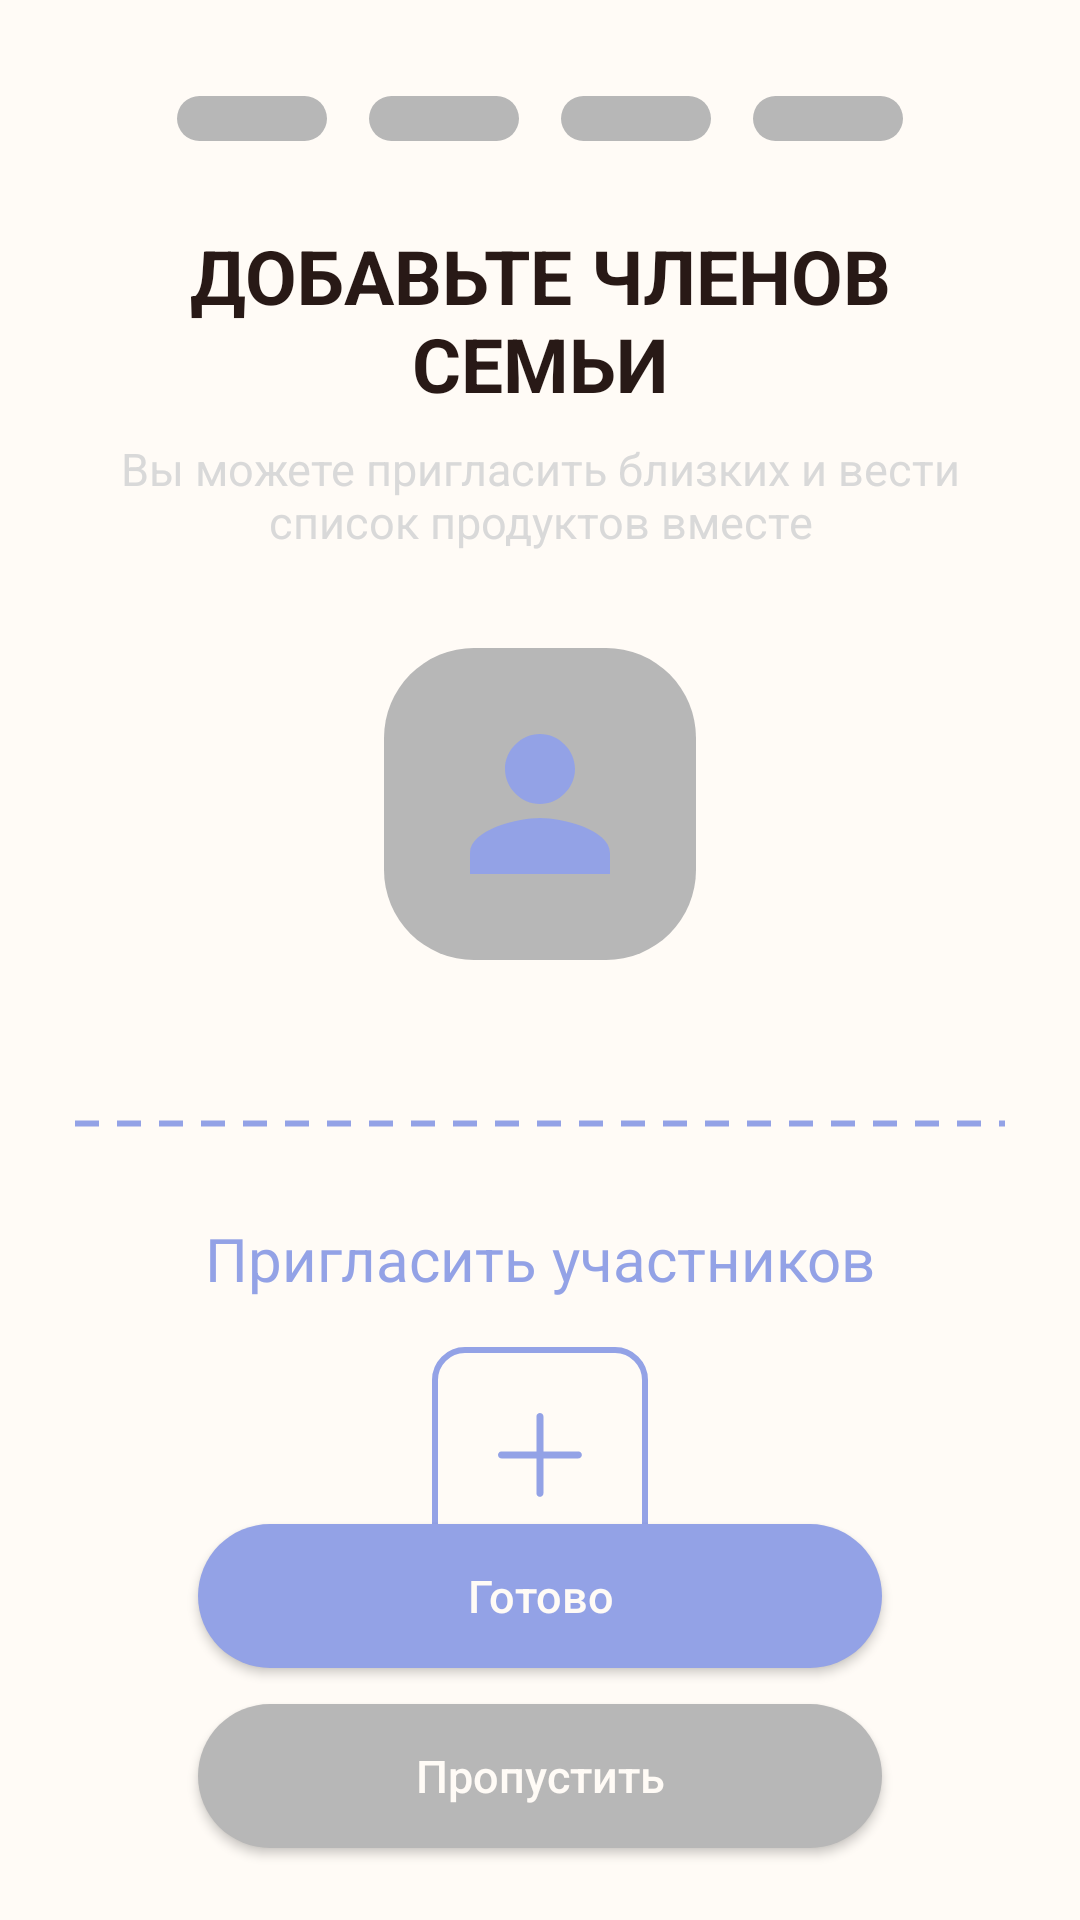

Locate icon controls on the screen. Image size 1080w x 1920h, boxes as {"left": x1, "top": y1, "right": x2, "bottom": y2}.
plus member: {"left": 498, "top": 1413, "right": 582, "bottom": 1497}
